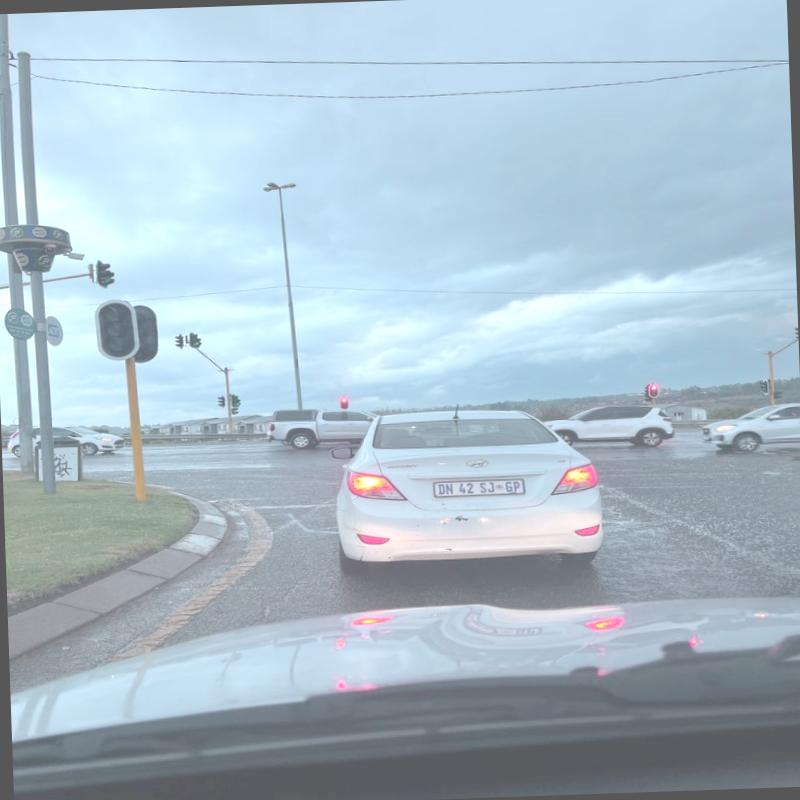license plate on a car: (433, 478, 525, 498)
